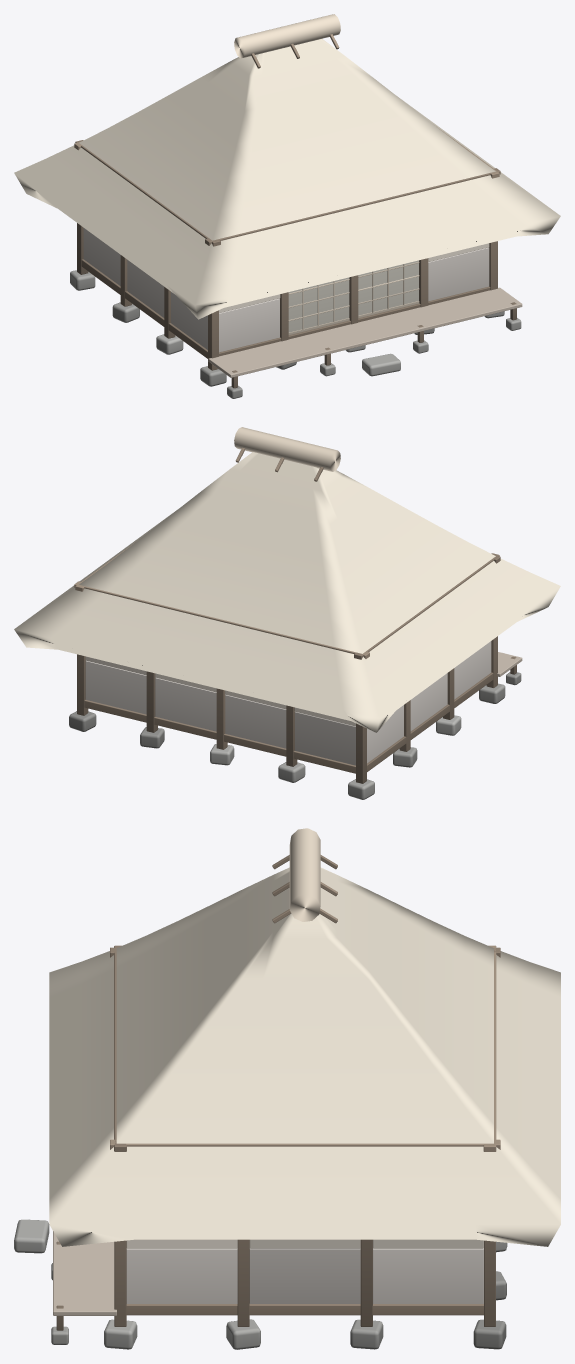
Rendered from minka_thatch_small.glb.
3 renders of one model, top to bottom at view 1: azimuth 30°, elevation 25°; view 2: azimuth 150°, elevation 25°; view 3: azimuth 270°, elevation 25°, orthographic. The views are drawn at different scales.
Parts seen in each view (by area): view 1: minka_thatch_small; view 2: minka_thatch_small; view 3: minka_thatch_small.
Part boxes in pixels (x1=…): minka_thatch_small: x1=14, y1=14, x2=560, y2=398; minka_thatch_small: x1=14, y1=427, x2=560, y2=799; minka_thatch_small: x1=14, y1=828, x2=560, y2=1349.
Bounding box in the file's own units: 8.4 × 6.01 × 7.7.
